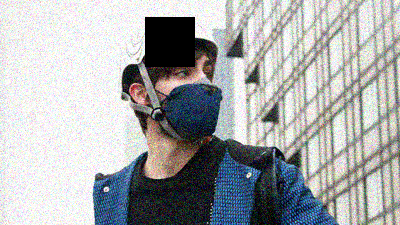with_mask: (153, 58, 222, 142)
